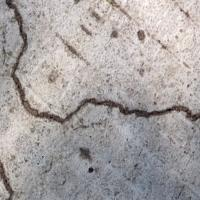crack: (0, 0, 199, 159)
